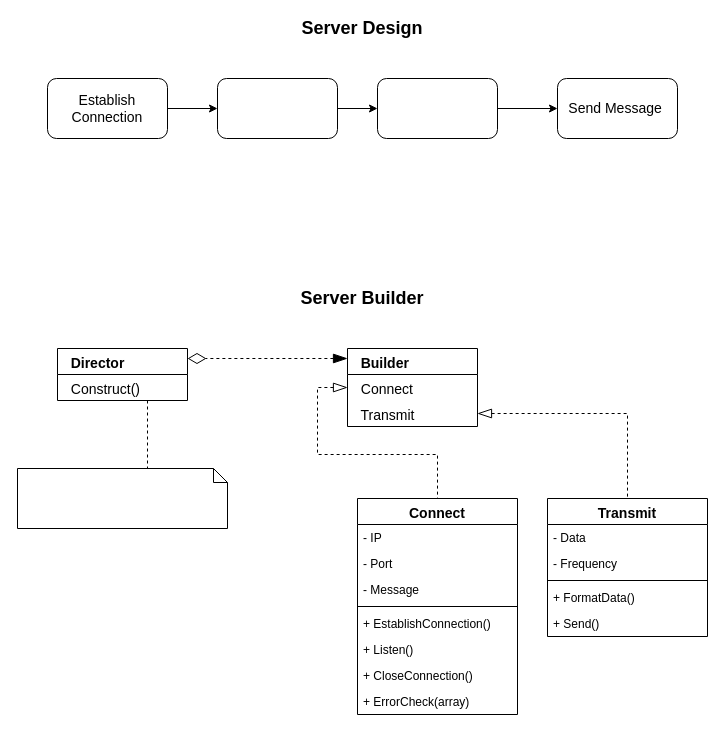
The diagram is 725 pixels wide and 734 high, and some of its shapes have lost their labels. Each missing label, with the centre of its shape:
"Check for Errors" goes at point (277, 108).
"for all objects in structure { builder-->BuildPart() }" goes at point (122, 498).
"Format Data" goes at point (437, 108).
